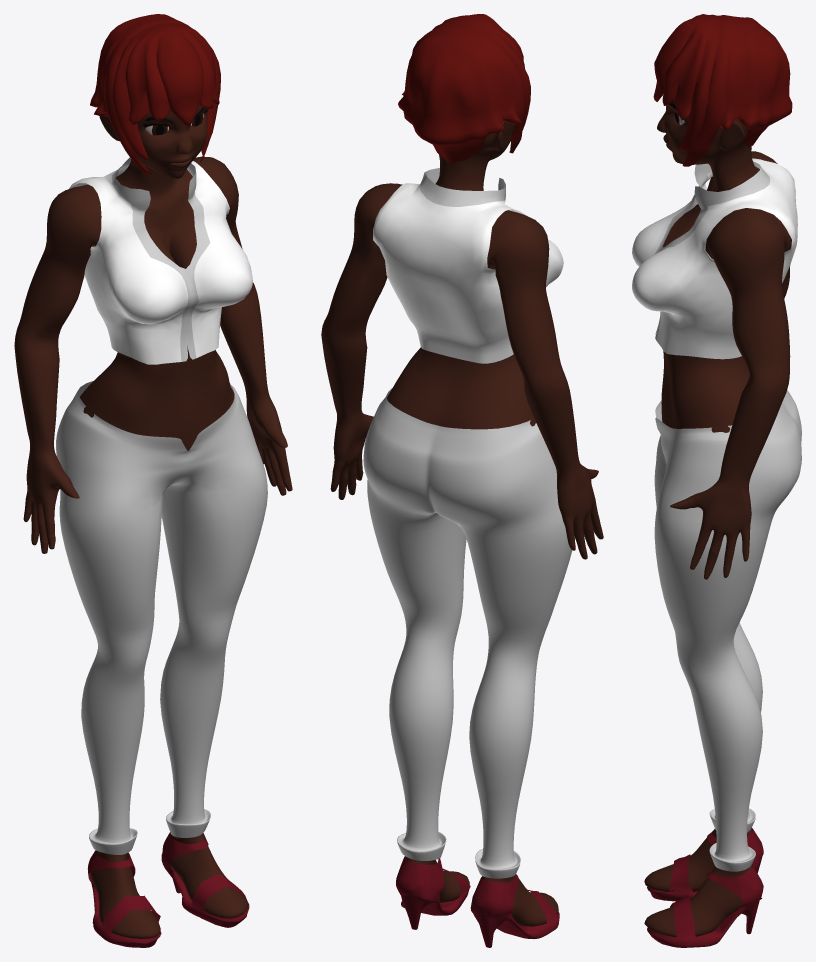
Rendered from TanyaBody2.obj.
3 renders of one model, left to right at view 1: azimuth 30°, elevation 25°; view 2: azimuth 150°, elevation 25°; view 3: azimuth 270°, elevation 25°, orthographic.
Visible parts, largest first — view 1: TanyaPants_Plane.005, TanyaBody_Plane, TanyaShirt_Plane.004, TanyaHairBang_Sphere.002, TanyaShoes_Plane.003; view 2: TanyaPants_Plane.005, TanyaBody_Plane, TanyaShirt_Plane.004, TanyaHairBang_Sphere.002, TanyaShoes_Plane.003; view 3: TanyaBody_Plane, TanyaPants_Plane.005, TanyaShirt_Plane.004, TanyaHairBang_Sphere.002, TanyaShoes_Plane.003.
Boxes of the visible parts, x1=… form: TanyaPants_Plane.005: x1=56, y1=381, x2=267, y2=854; TanyaBody_Plane: x1=14, y1=104, x2=292, y2=938; TanyaShirt_Plane.004: x1=69, y1=157, x2=252, y2=364; TanyaHairBang_Sphere.002: x1=90, y1=14, x2=220, y2=174; TanyaShoes_Plane.003: x1=87, y1=832, x2=249, y2=947; TanyaPants_Plane.005: x1=363, y1=388, x2=574, y2=878; TanyaBody_Plane: x1=321, y1=121, x2=603, y2=926; TanyaShirt_Plane.004: x1=373, y1=168, x2=563, y2=363; TanyaHairBang_Sphere.002: x1=398, y1=14, x2=530, y2=162; TanyaShoes_Plane.003: x1=396, y1=856, x2=559, y2=947; TanyaBody_Plane: x1=644, y1=100, x2=791, y2=937; TanyaPants_Plane.005: x1=654, y1=390, x2=801, y2=871; TanyaShirt_Plane.004: x1=632, y1=158, x2=797, y2=359; TanyaHairBang_Sphere.002: x1=653, y1=14, x2=792, y2=166; TanyaShoes_Plane.003: x1=647, y1=828, x2=763, y2=947.
Size of the model in its own units: 0.5835 by 2.03 by 0.3485.
